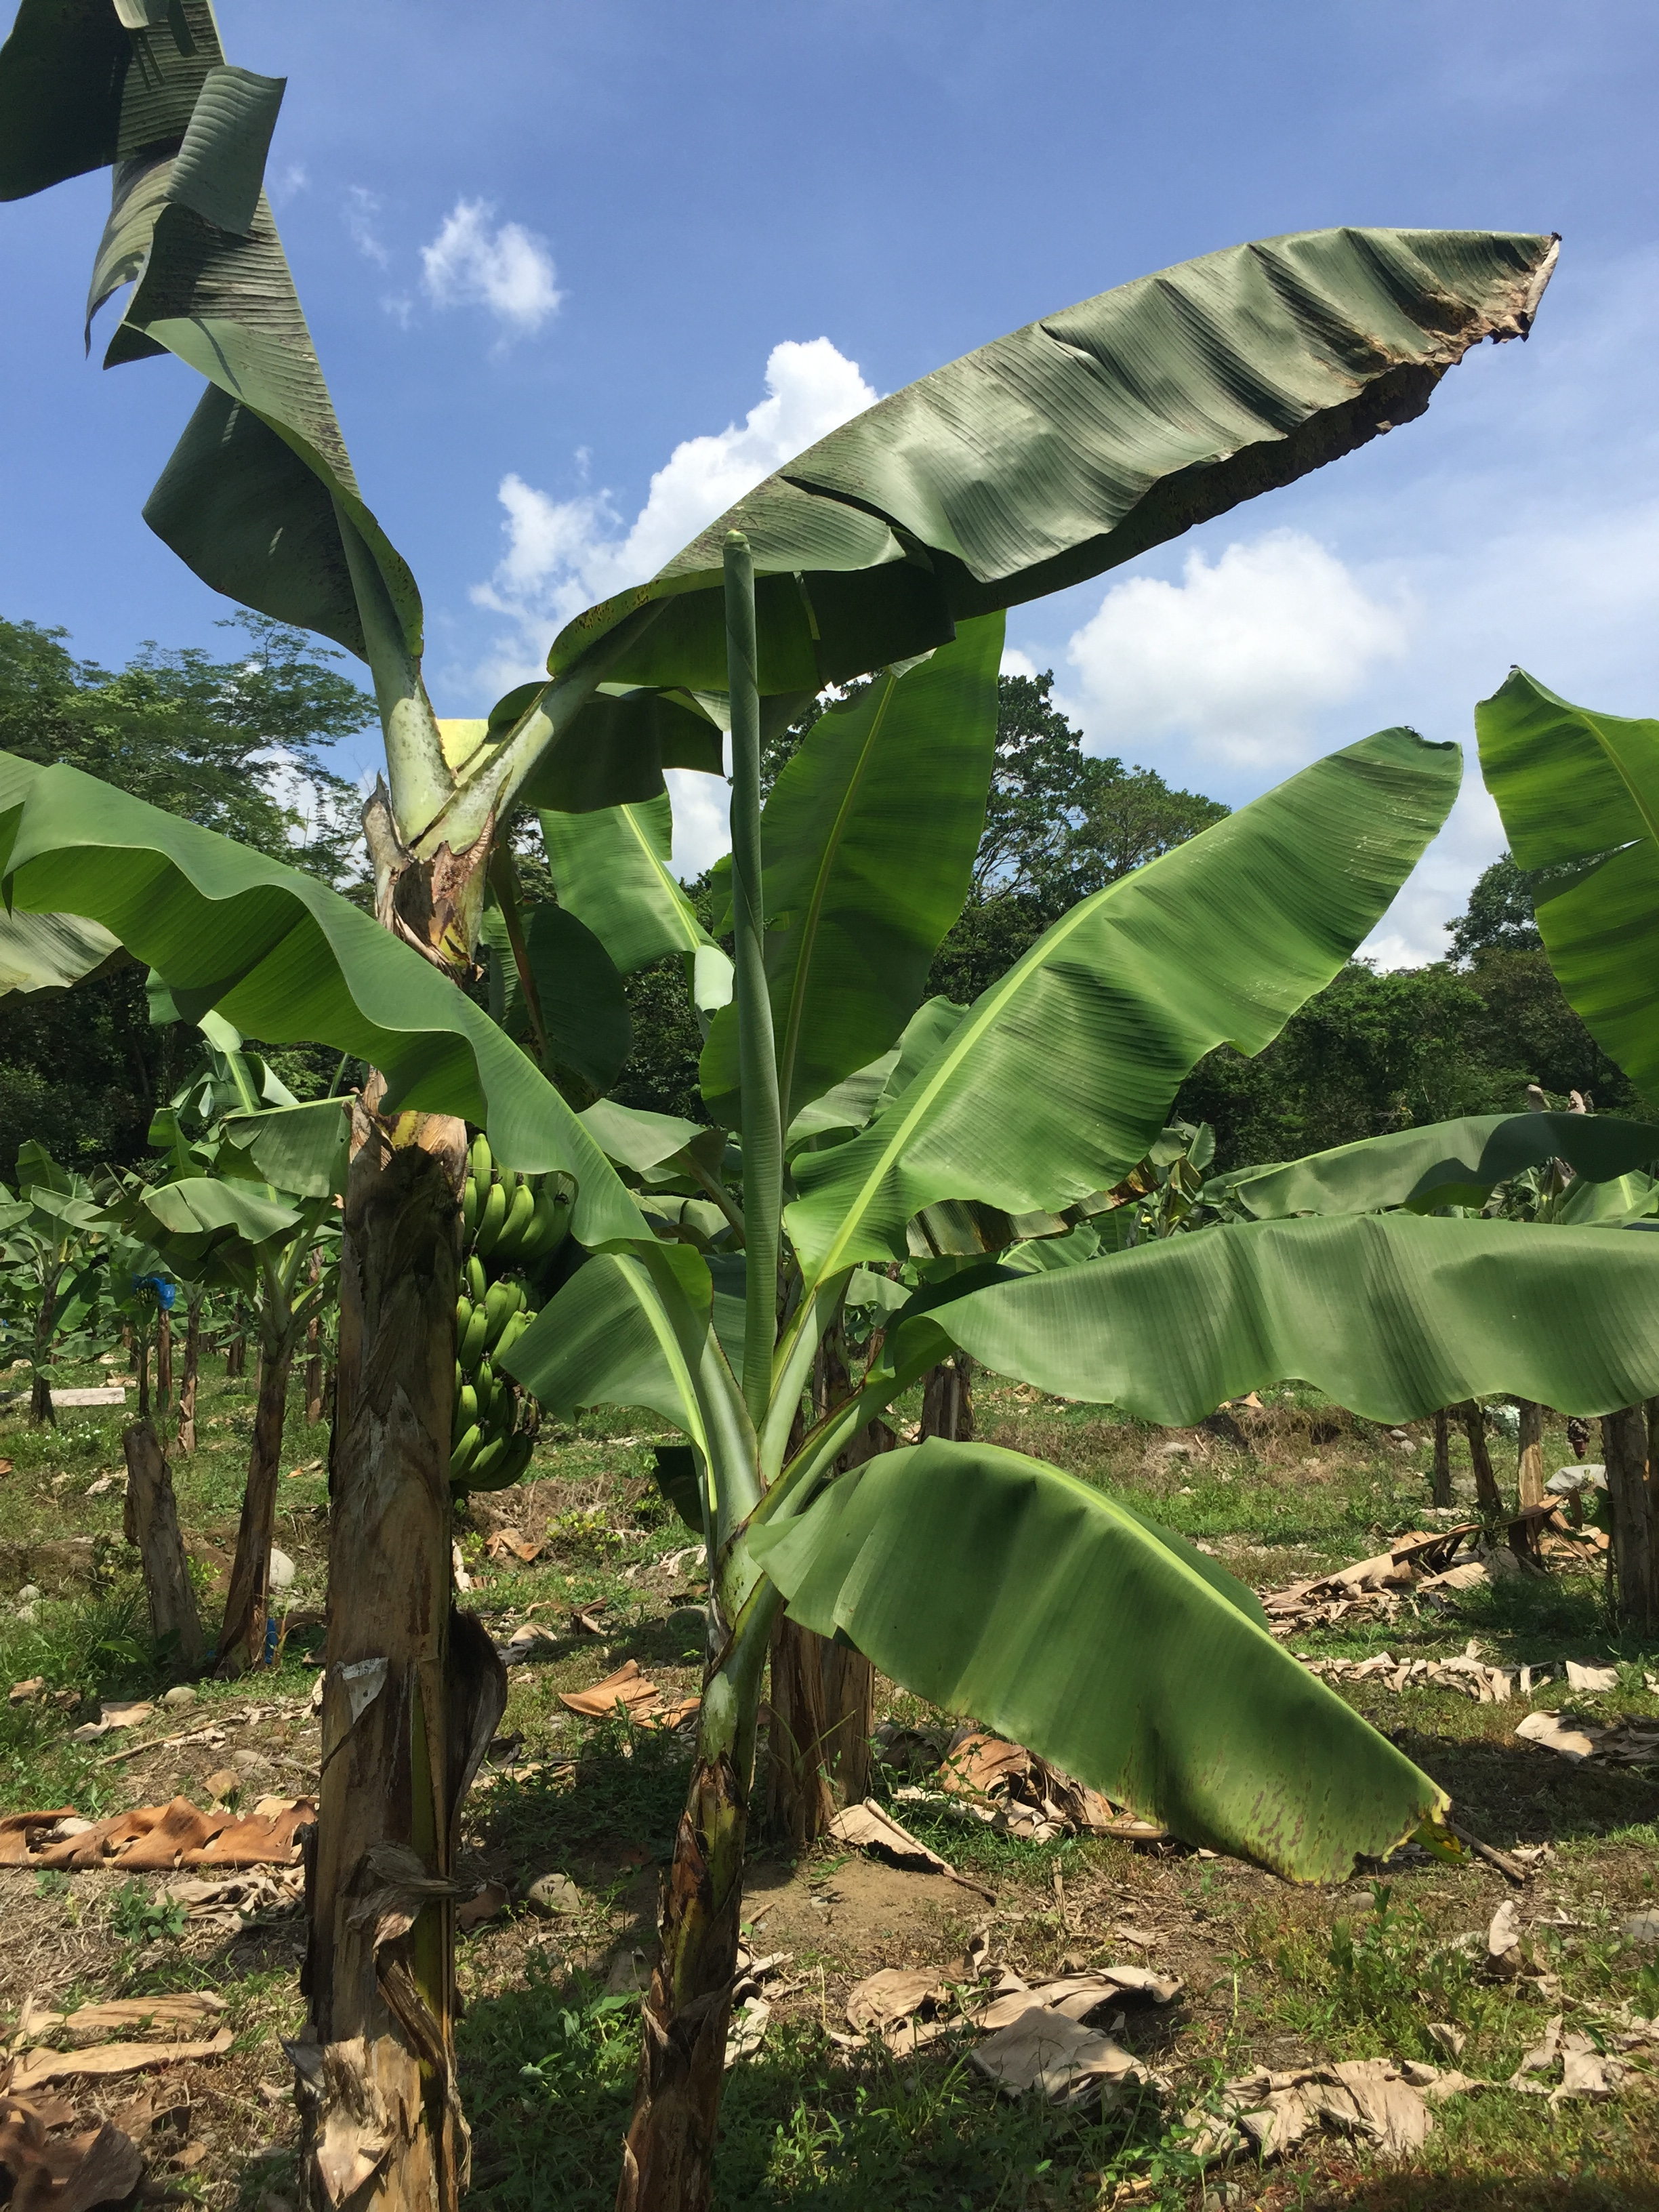candleleafs: (720, 524, 772, 1442)
